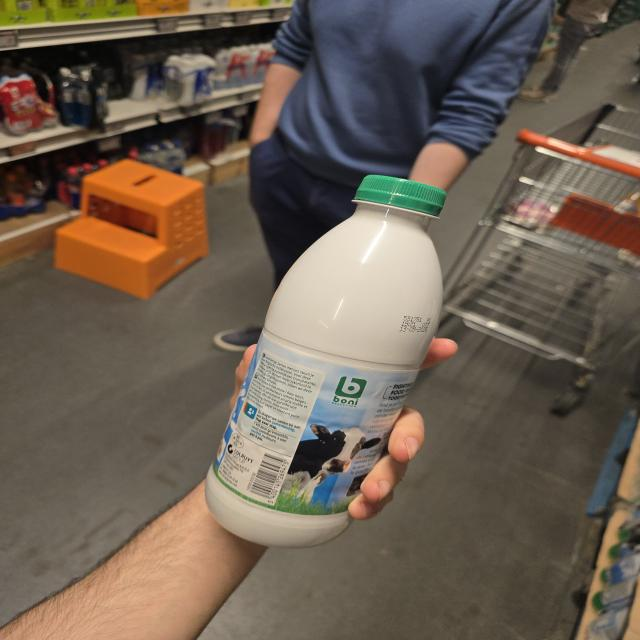Milk: (206, 175, 446, 547)
